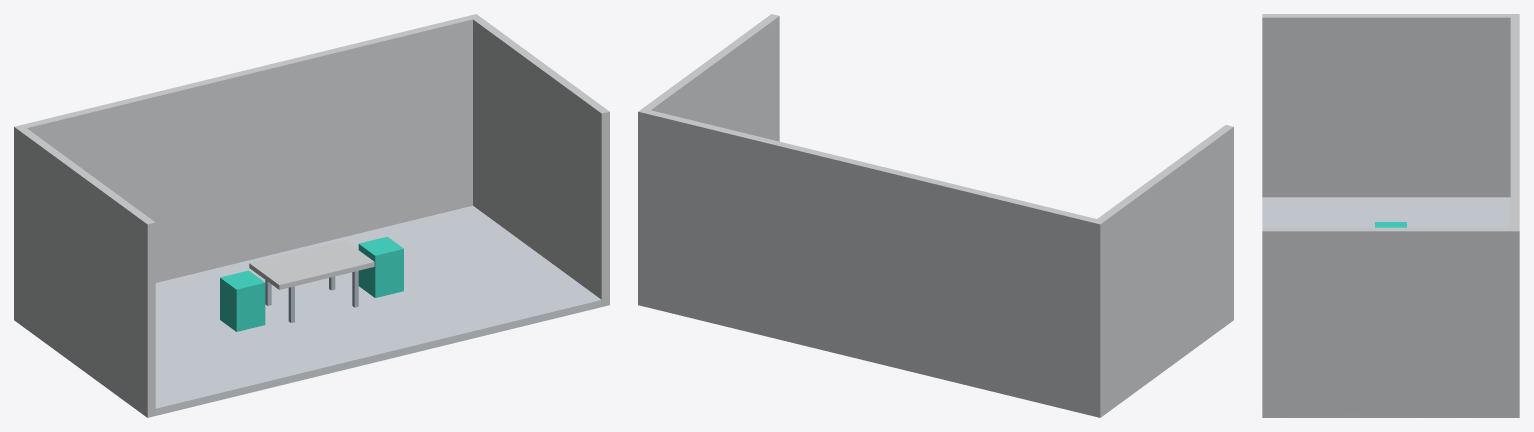
The picture shows the model from 3 angles, left to right: view 1: azimuth 30°, elevation 25°; view 2: azimuth 150°, elevation 25°; view 3: azimuth 270°, elevation 25°; orthographic projection. The views are drawn at different scales.
Parts seen in each view (by area): view 1: Exhibition Booth Concept; view 2: Exhibition Booth Concept; view 3: Exhibition Booth Concept.
Part boxes in pixels (x1,y1,x2,y2): Exhibition Booth Concept: (14,14,609,417); Exhibition Booth Concept: (638,14,1233,417); Exhibition Booth Concept: (1262,14,1519,417).
Bounding box in the file's own units: 8 × 3.2 × 4.
